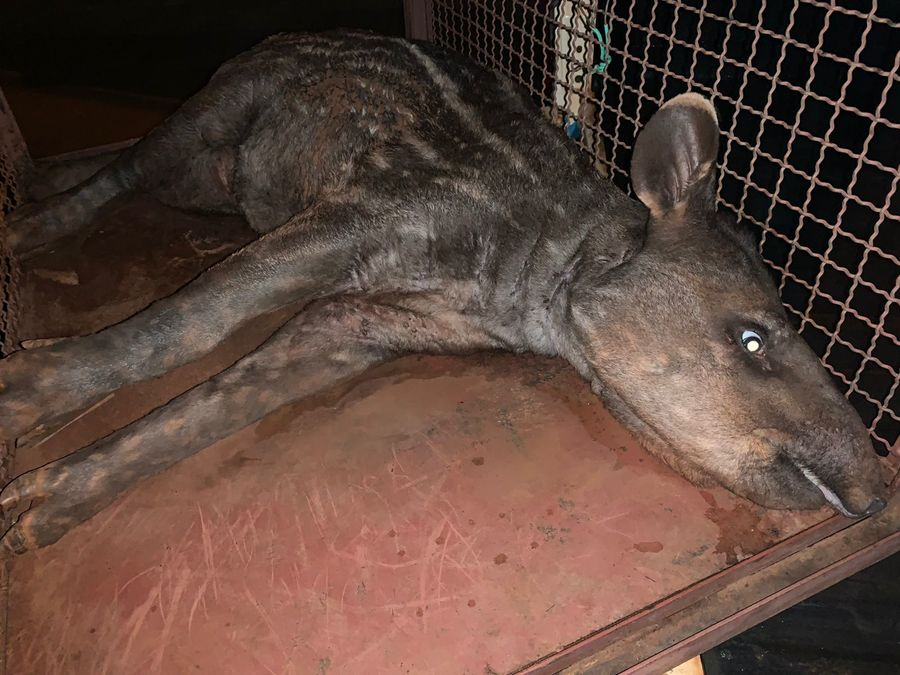Anta: (28, 20, 891, 612)
